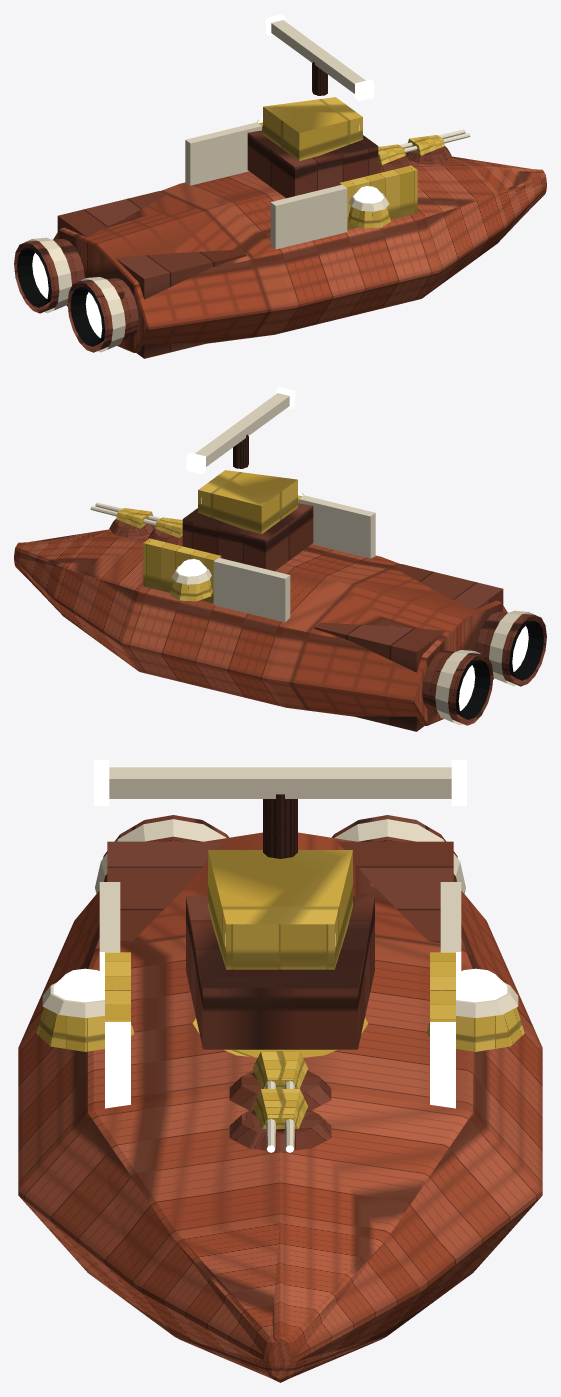
Rendered from command_ship.glb.
3 renders of one model, top to bottom at view 1: azimuth 30°, elevation 25°; view 2: azimuth 150°, elevation 25°; view 3: azimuth 270°, elevation 25°, orthographic. The views are drawn at different scales.
Visible parts, largest first — view 1: hull_body, sensor_tower, engine_block, weapon_turrets, shield_domes; view 2: hull_body, sensor_tower, engine_block, weapon_turrets, shield_domes; view 3: hull_body, sensor_tower, engine_block, shield_domes, weapon_turrets.
Part boxes in pixels (x1,y1,x2,y2): hull_body: (53,122,546,352); sensor_tower: (247,14,417,230); engine_block: (14,191,246,358); weapon_turrets: (378,129,470,172); shield_domes: (257,117,390,228); hull_body: (14,495,507,725); sensor_tower: (143,387,313,603); engine_block: (314,564,546,731); weapon_turrets: (90,502,182,545); shield_domes: (170,490,303,601); hull_body: (18,832,542,1382); sensor_tower: (94,760,466,1108); engine_block: (95,815,465,942); shield_domes: (36,968,524,1051); weapon_turrets: (229,1051,331,1152).
Size of the model in its own units: 56 by 26.68 by 26.25.
Materials: 1 (1 with a texture image).
